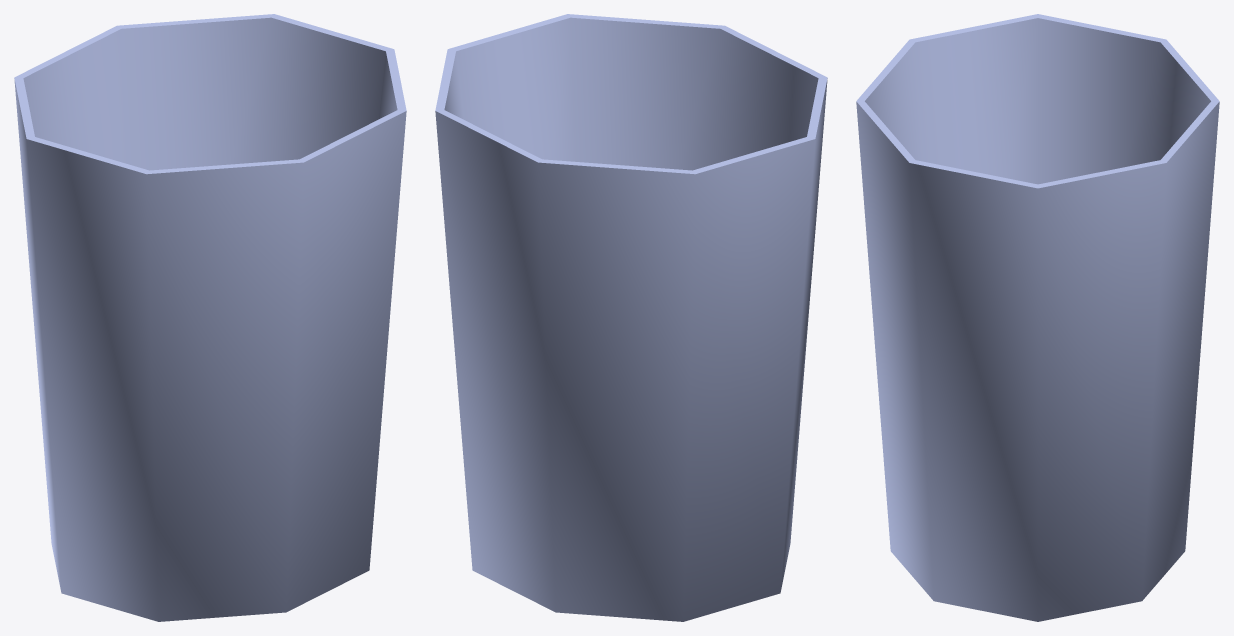
The model's file is K_Cup.glb.
3 renders of one model, left to right at view 1: azimuth 30°, elevation 25°; view 2: azimuth 150°, elevation 25°; view 3: azimuth 270°, elevation 25°, orthographic. The views are drawn at different scales.
Visible parts, largest first — view 1: Kitchen_Cup; view 2: Kitchen_Cup; view 3: Kitchen_Cup.
Boxes of the visible parts, x1,y1,x2,y2 form: Kitchen_Cup: (14, 14, 406, 621); Kitchen_Cup: (435, 14, 827, 621); Kitchen_Cup: (856, 14, 1219, 621).
Size of the model in its own units: 0.1555 by 0.187 by 0.1369.
